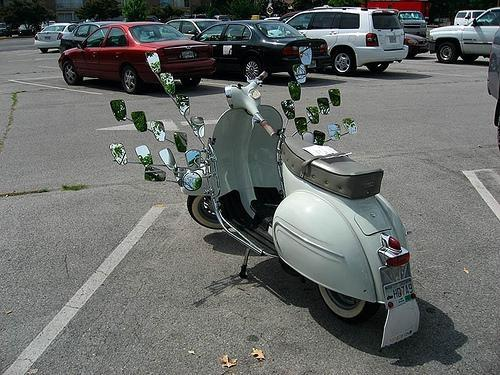car: (58, 21, 215, 94), (285, 10, 409, 77), (194, 21, 308, 80), (58, 20, 125, 56), (36, 22, 82, 52), (166, 18, 223, 40), (398, 10, 428, 37), (402, 32, 430, 57), (453, 10, 487, 26), (18, 24, 36, 35)
motorcycle: (112, 44, 420, 351)
truck: (429, 8, 500, 64)
